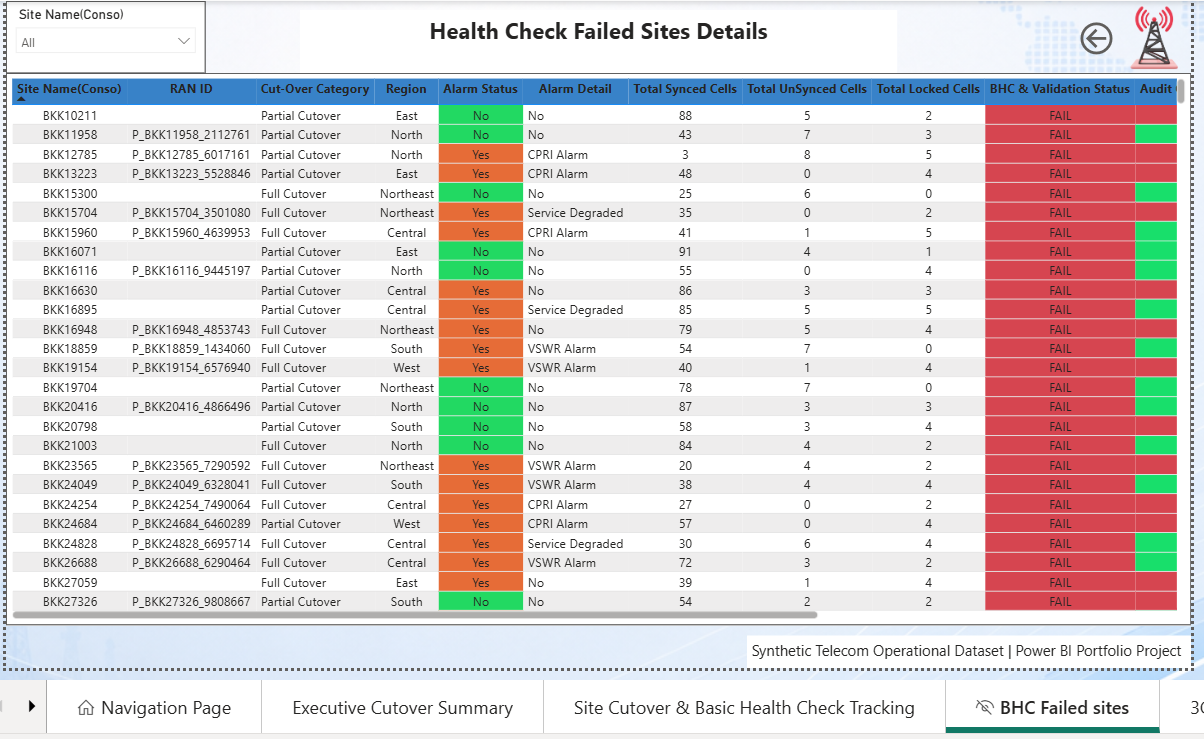

This screenshot's page, from the dashboard's own definition file:
{"tool":"powerbi","page":{"name":"BHC Failed sites","canvas":[1280,720],"ordinal":3},"visuals":[{"type":"tableEx","fields":{"Values":["CP1_BHC_Data.Site Name(Conso)","CP1_BHC_Data.RAN ID","CP1_BHC_Data.Cut-Over Category","CP1_BHC_Data.Region","CP1_BHC_Data.Alarm Status","CP1_BHC_Data.Alarm Detail","Sum(CP1_BHC_Data.Synced Cells)","Sum(CP1_BHC_Data.UnSynced Cells)","Sum(CP1_BHC_Data.Locked Cells)","CP1_BHC_Data.BHC & Validation Status","CP1_BHC_Data.Audit Completed Status 2G & 3G (PASS / FAIL)","CP1_BHC_Data.Audit Completed Status 4G & 5G (PASS / FAIL)"]},"box":[0,77.7,1279.2,595.9],"z":0},{"type":"slicer","fields":{"Values":["CP1_BHC_Data.Site Name(Conso)"]},"box":[0,0,215.4,77.7],"z":1000},{"type":"actionButton","box":[1154.5,9.7,45.3,61.5],"z":2000},{"type":"textbox","box":[317.4,9.7,644.5,68],"z":3000},{"type":"image","box":[1199.8,0,79.3,77.7],"z":4000},{"type":"textbox","box":[799.1,684.4,480.9,35.6],"z":4001}]}

Visuals, with their boxes on the page's 1280x720 design canvas (x1, y1, x2, y2). These are canvas units, not pixel positions in the 1204x739 screenshot, which may show the page scaled, cropped or inside an application window:
tableEx - CP1_BHC_Data.Site Name(Conso) x CP1_BHC_Data.RAN ID: 0/78/1279/674
slicer - CP1_BHC_Data.Site Name(Conso): 0/0/215/78
actionButton: 1154/10/1200/71
textbox: 317/10/962/78
image: 1200/0/1279/78
textbox: 799/684/1280/720
